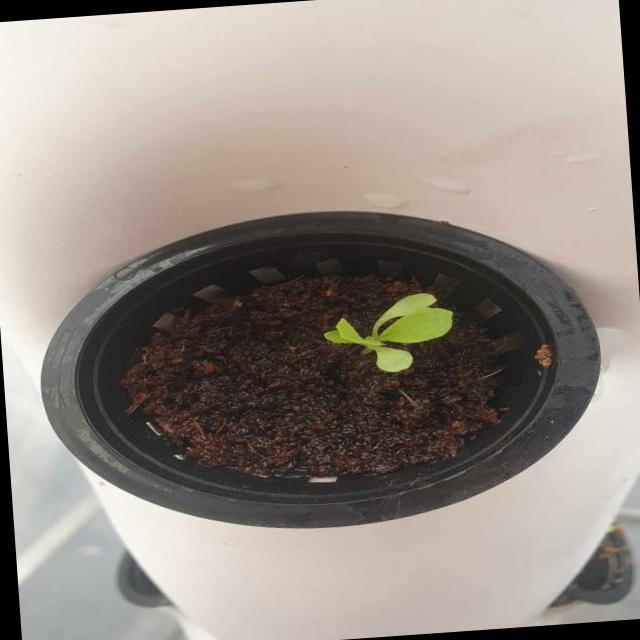Lettuce-Not-Ready-to-Harvest: (323, 293, 452, 370)
